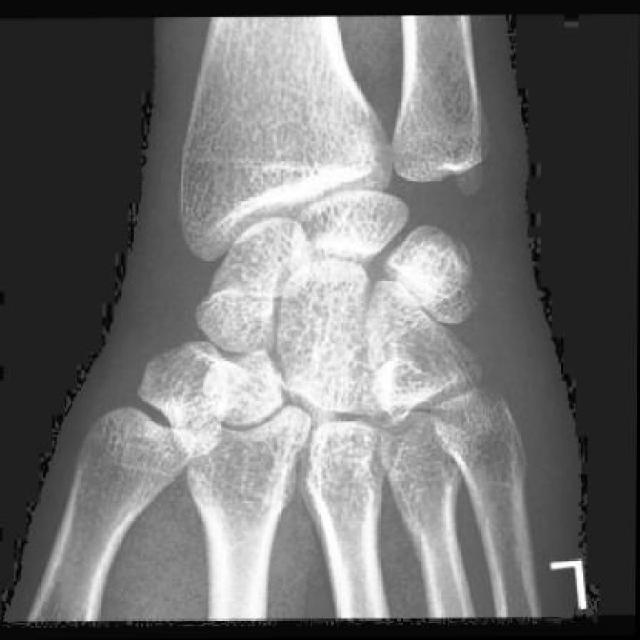Fracture: (199, 270, 298, 332)
